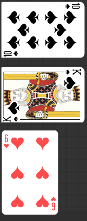10C: (3, 49, 20, 57)
4H: (4, 133, 11, 149)
